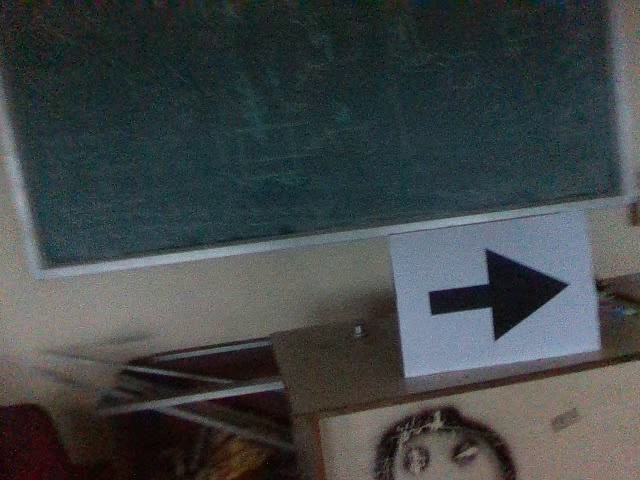Right: (423, 245, 572, 346)
